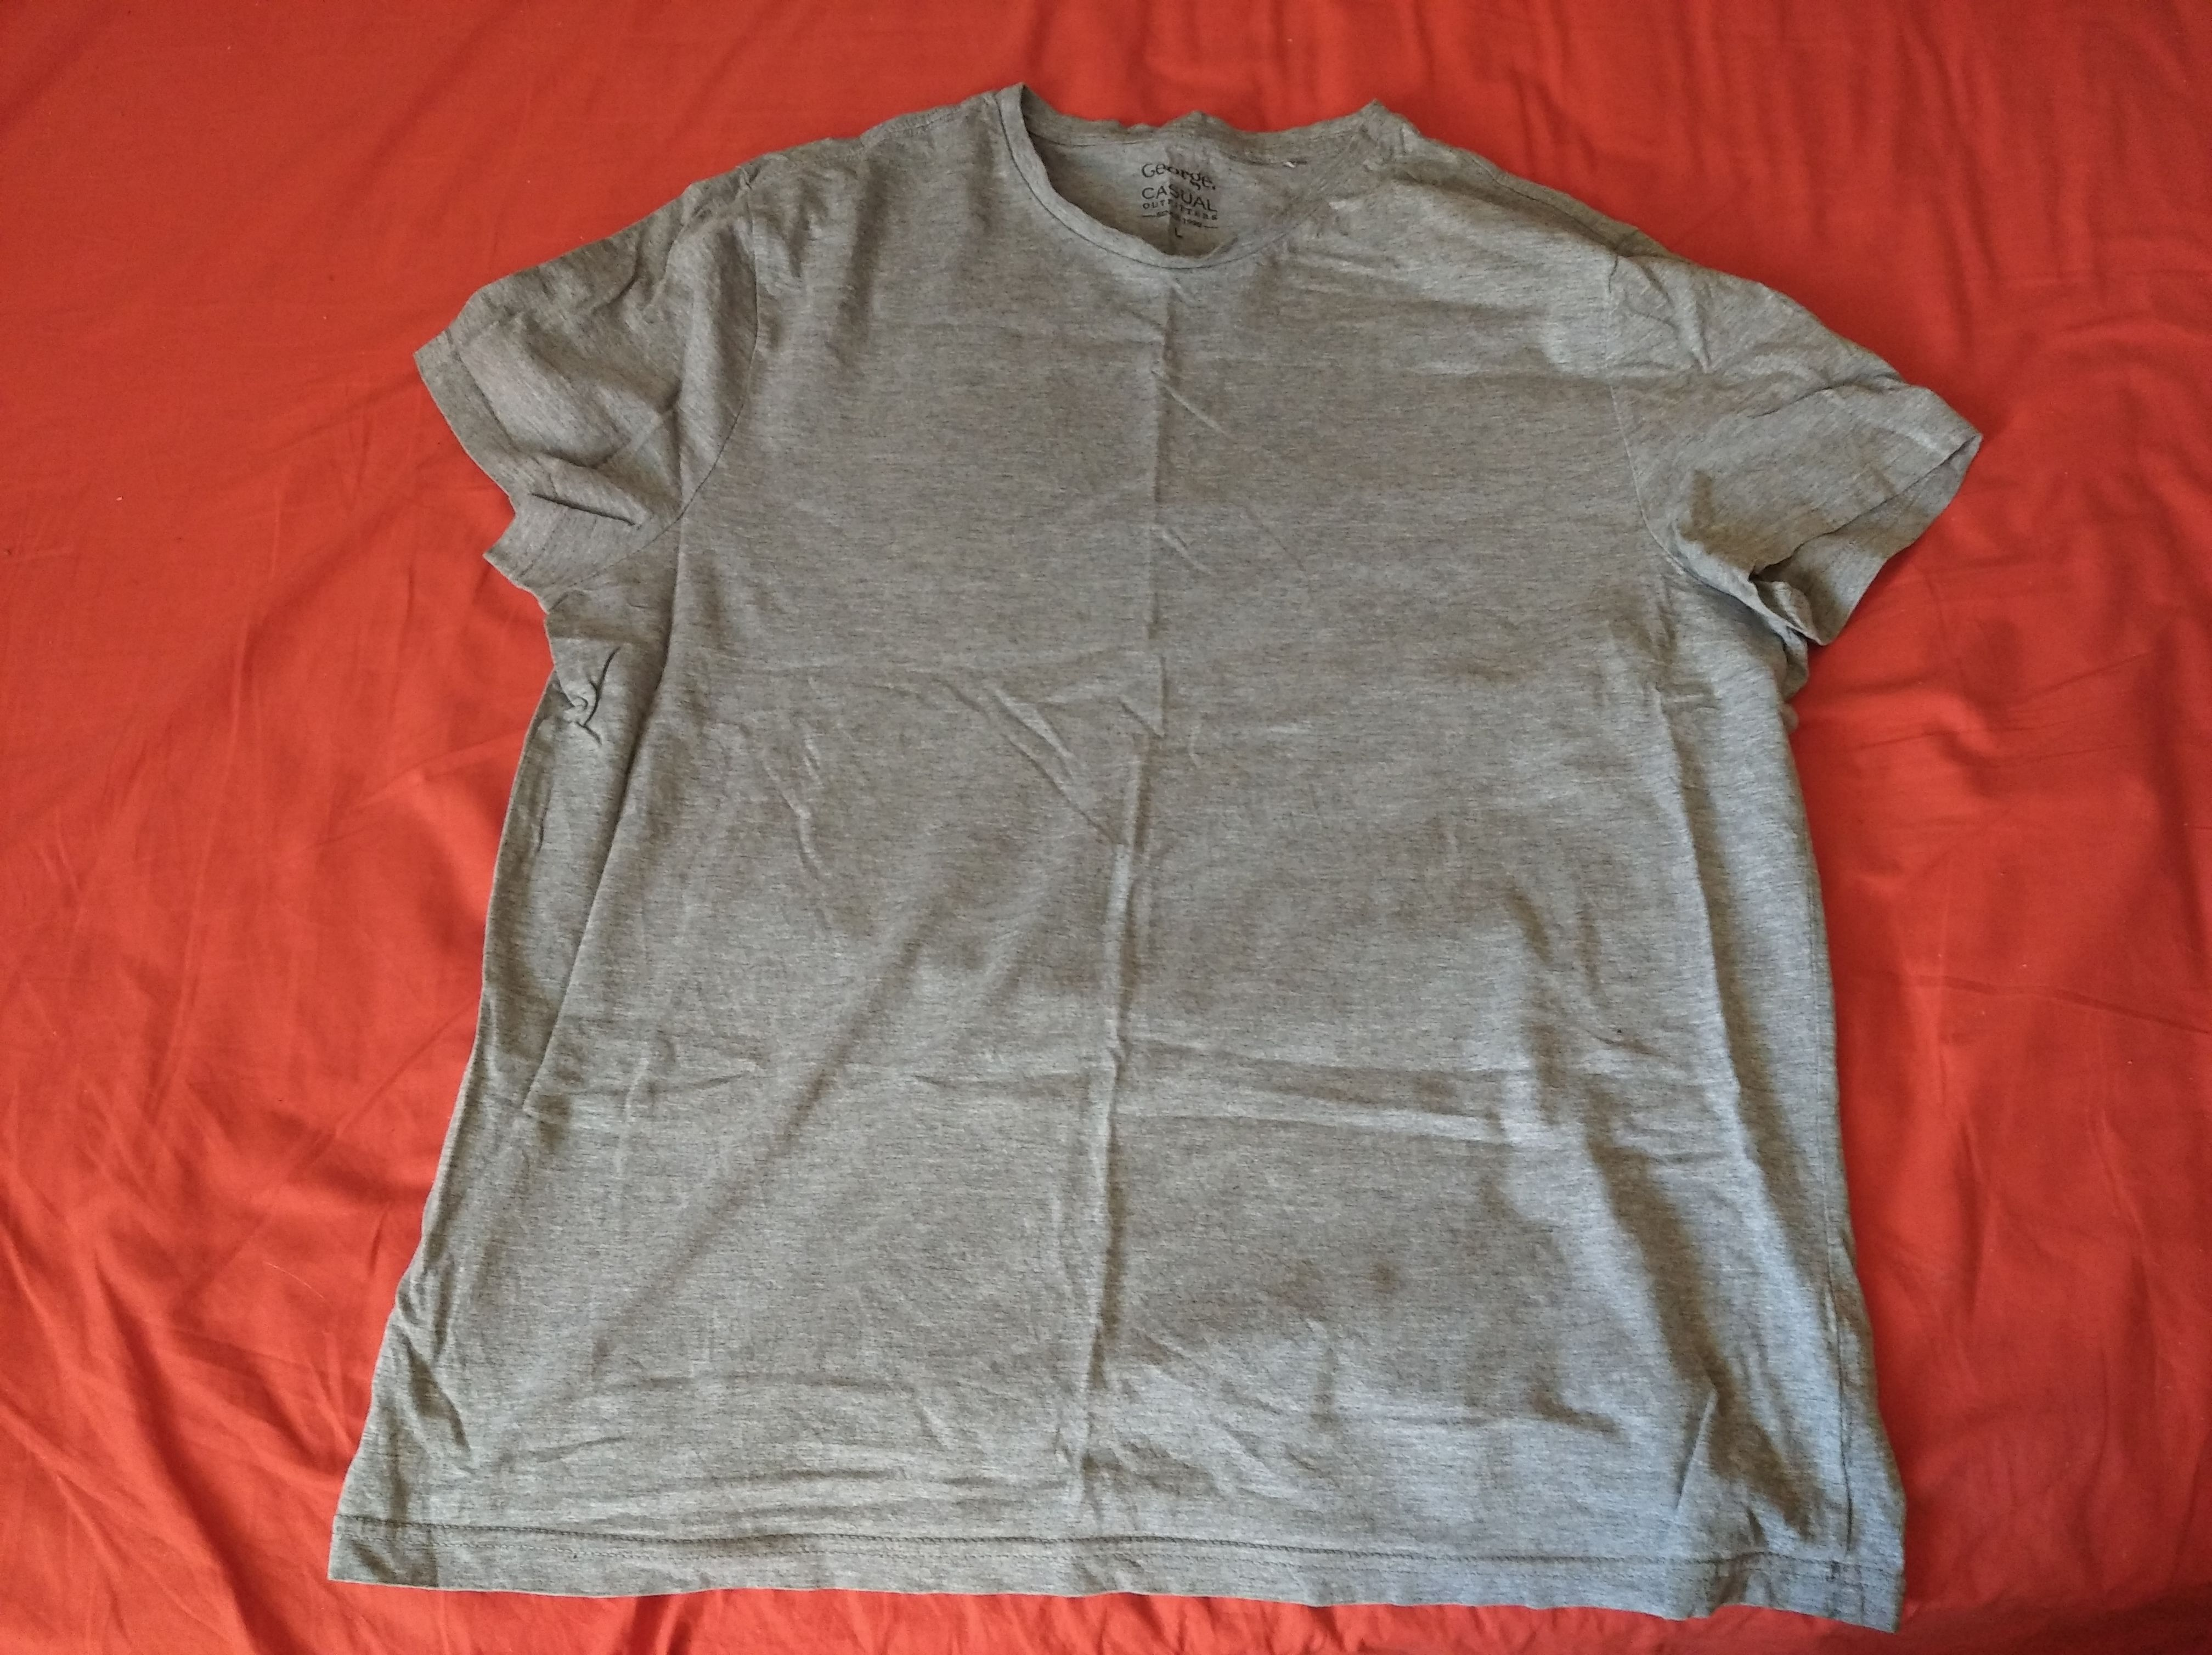clothes: (285, 82, 1965, 1636)
